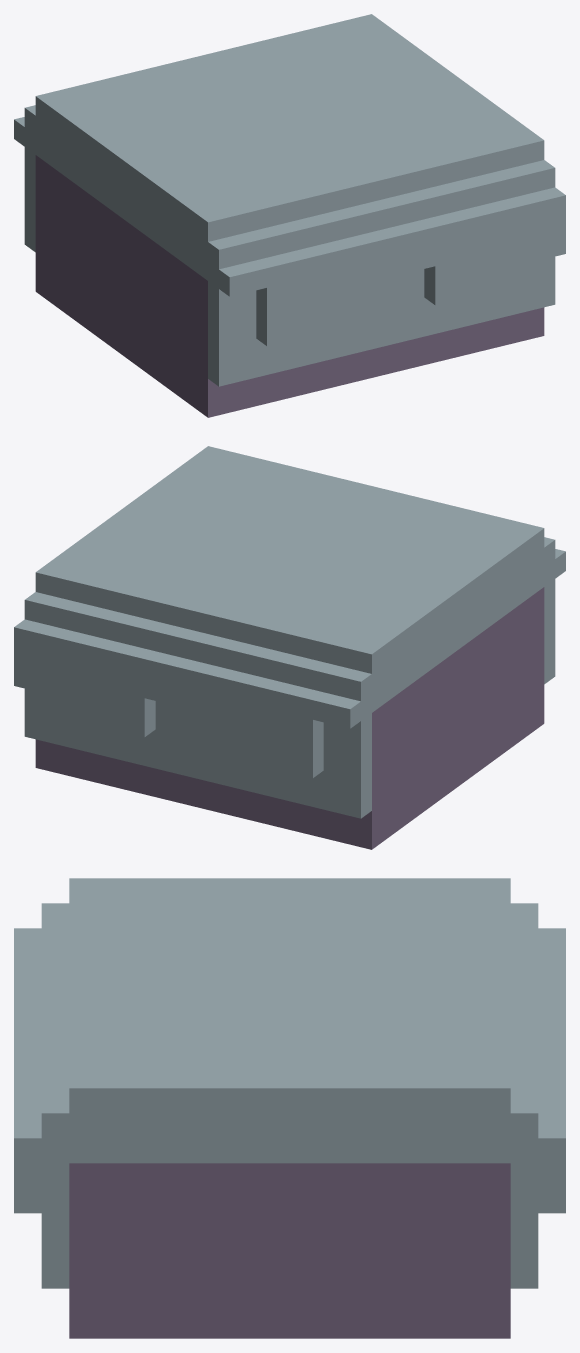
File: Floors-9.obj
The picture shows the model from 3 angles, top to bottom: view 1: azimuth 30°, elevation 25°; view 2: azimuth 150°, elevation 25°; view 3: azimuth 270°, elevation 25°; orthographic projection. The views are drawn at different scales.
Bounding box in the file's own units: 1.8 × 1 × 2.
